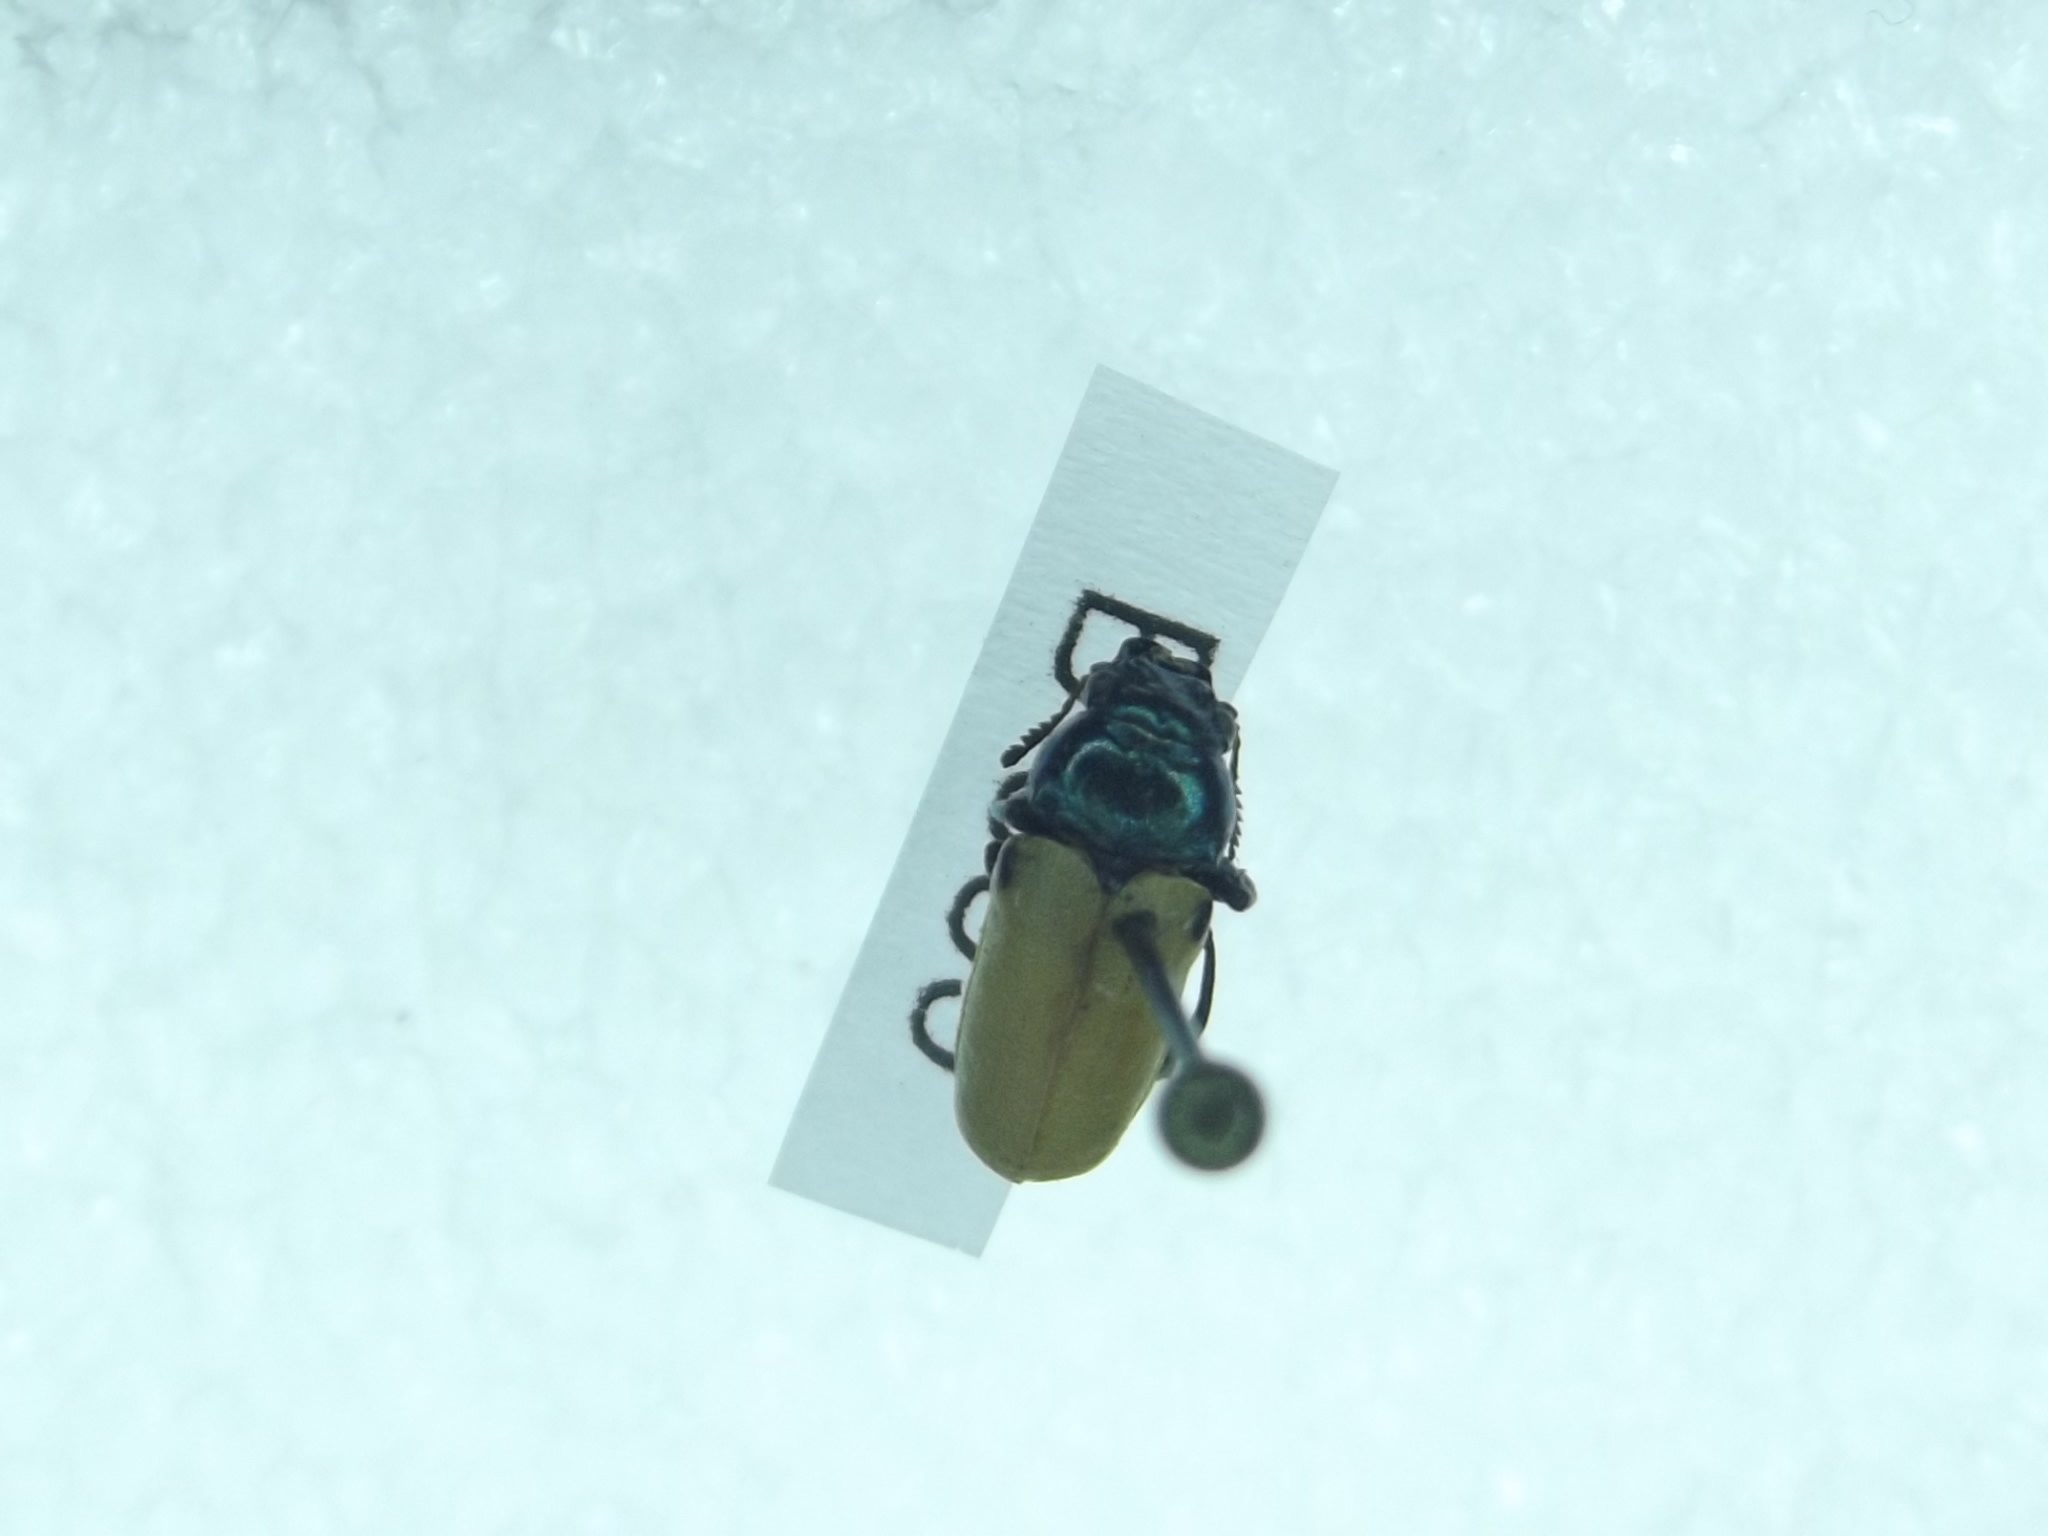Labidostomis_longimana: (945, 621, 1269, 1221)
